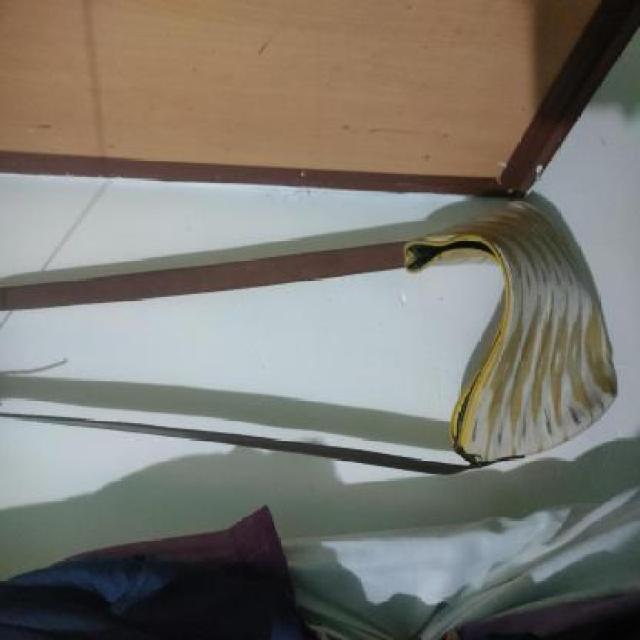backpack: (392, 192, 623, 471)
